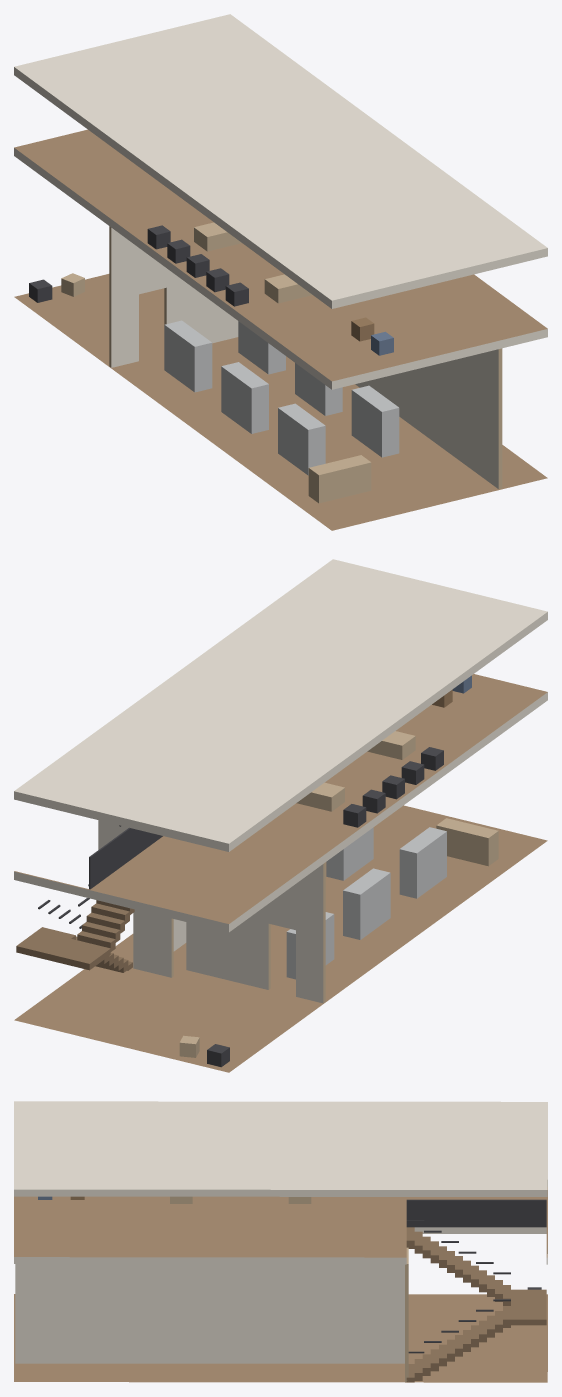
Rendered from interior.glb.
The picture shows the model from 3 angles, top to bottom: view 1: azimuth 30°, elevation 25°; view 2: azimuth 150°, elevation 25°; view 3: azimuth 270°, elevation 25°; orthographic projection. The views are drawn at different scales.
Visible parts, largest first — view 1: slabs, partitions, coarse-s0, coarse-s1; view 2: slabs, partitions, coarse-s0, stair, coarse-s1; view 3: slabs, partitions, stair, coarse-s1.
Part boxes in pixels (x1,y1,x2,y2): slabs: (14, 14, 547, 530); partitions: (109, 226, 502, 489); coarse-s0: (29, 273, 399, 503); coarse-s1: (147, 222, 393, 355); slabs: (14, 559, 547, 1072); partitions: (98, 820, 325, 1003); coarse-s0: (179, 818, 498, 1067); stair: (16, 825, 162, 972); coarse-s1: (296, 675, 471, 827); slabs: (14, 1101, 547, 1382); partitions: (15, 1247, 408, 1382); stair: (406, 1199, 546, 1382); coarse-s1: (38, 1196, 311, 1203).
Bounding box in the file's own units: 7.08 × 7.18 × 18.
